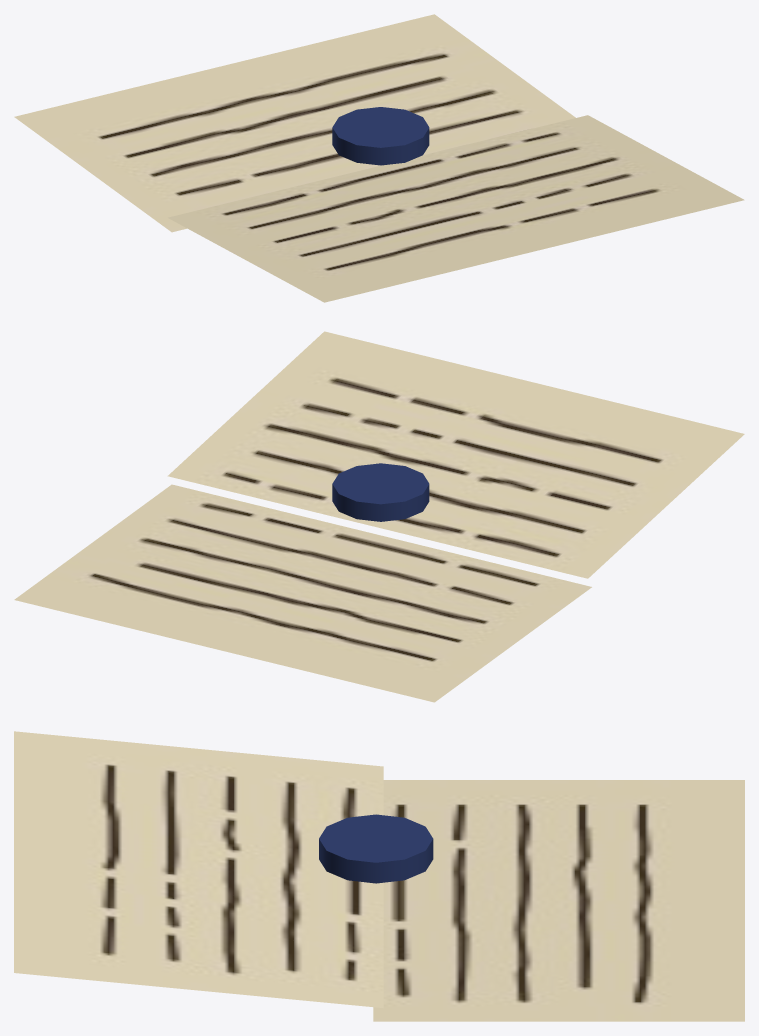
File: rooks_note.glb
3 views of the same model, one above another, from view 1: azimuth 30°, elevation 25°; view 2: azimuth 150°, elevation 25°; view 3: azimuth 270°, elevation 25° (orthographic). The views are drawn at different scales.
Visible parts, largest first — view 1: rooks_note; view 2: rooks_note; view 3: rooks_note.
Part boxes in pixels (<box>): rooks_note: <box>14,14,744,302</box>; rooks_note: <box>14,331,744,702</box>; rooks_note: <box>14,731,744,1021</box>.
Size of the model in its own units: 0.1 by 0.012 by 0.1278.
Materials: 2 (1 with a texture image).
